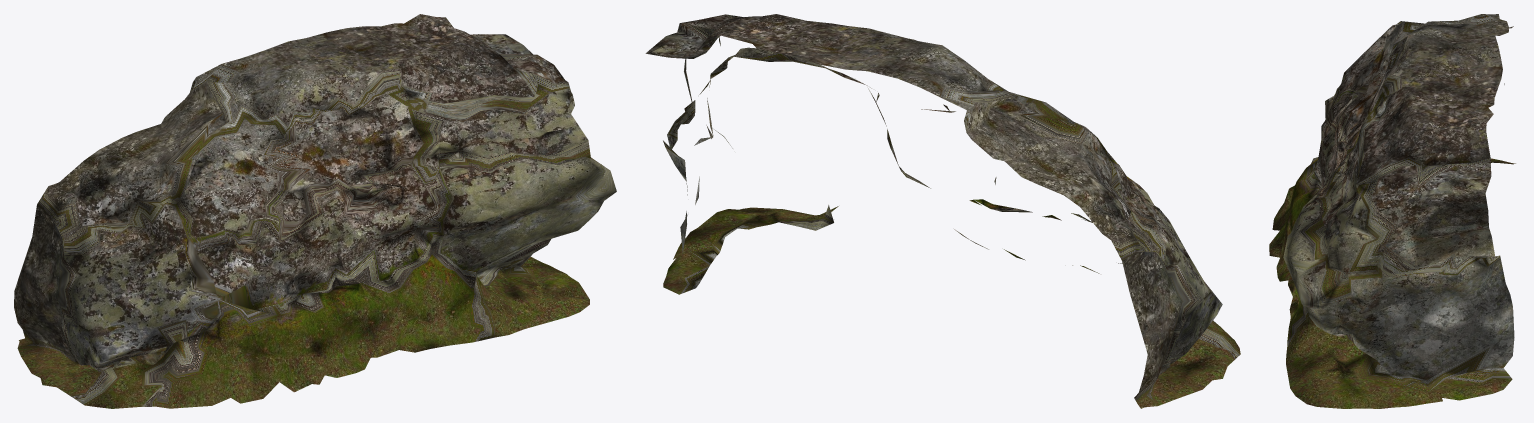
Rendered from boulder-mossy.glb.
3 renders of one model, left to right at view 1: azimuth 30°, elevation 25°; view 2: azimuth 150°, elevation 25°; view 3: azimuth 270°, elevation 25°, orthographic. The views are drawn at different scales.
Visible parts, largest first — view 1: vivveardw_LOD0_TIER0_000; view 2: vivveardw_LOD0_TIER0_000; view 3: vivveardw_LOD0_TIER0_000.
Boxes of the visible parts, x1,y1,x2,y2 form: vivveardw_LOD0_TIER0_000: [14, 14, 616, 408]; vivveardw_LOD0_TIER0_000: [645, 14, 1240, 408]; vivveardw_LOD0_TIER0_000: [1269, 14, 1515, 408].
Size of the model in its own units: 2.5 by 1.14 by 1.01.
Materials: 1 (1 with a texture image).
